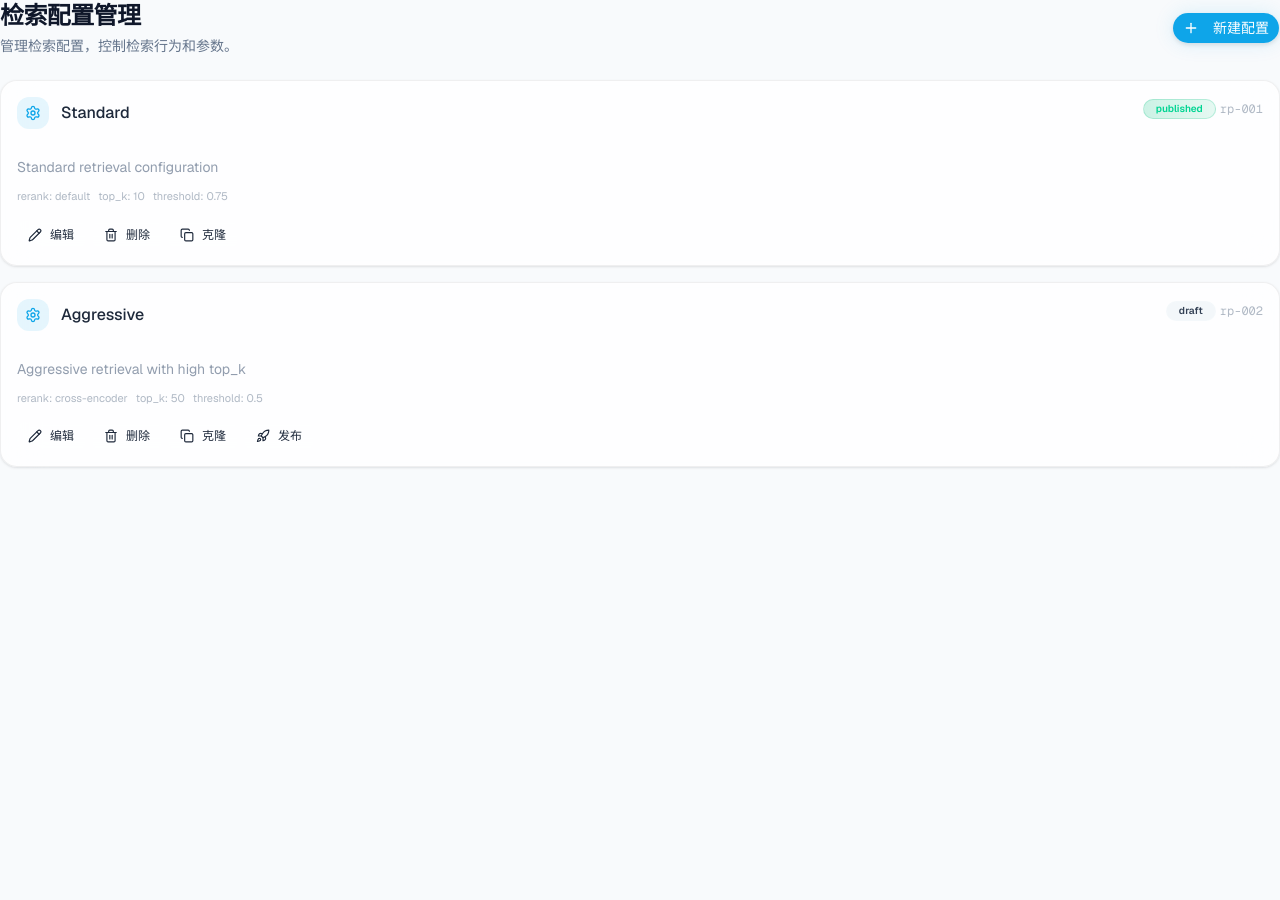
Test: RetrievalProfilesPage › Delete Profile › shows confirm dialog and deletes on confirmation
Expected: the text "Standard" is shown, [61,101,130,125]
Click the button "删除" below "default": click(127, 235) [93,221,161,249]
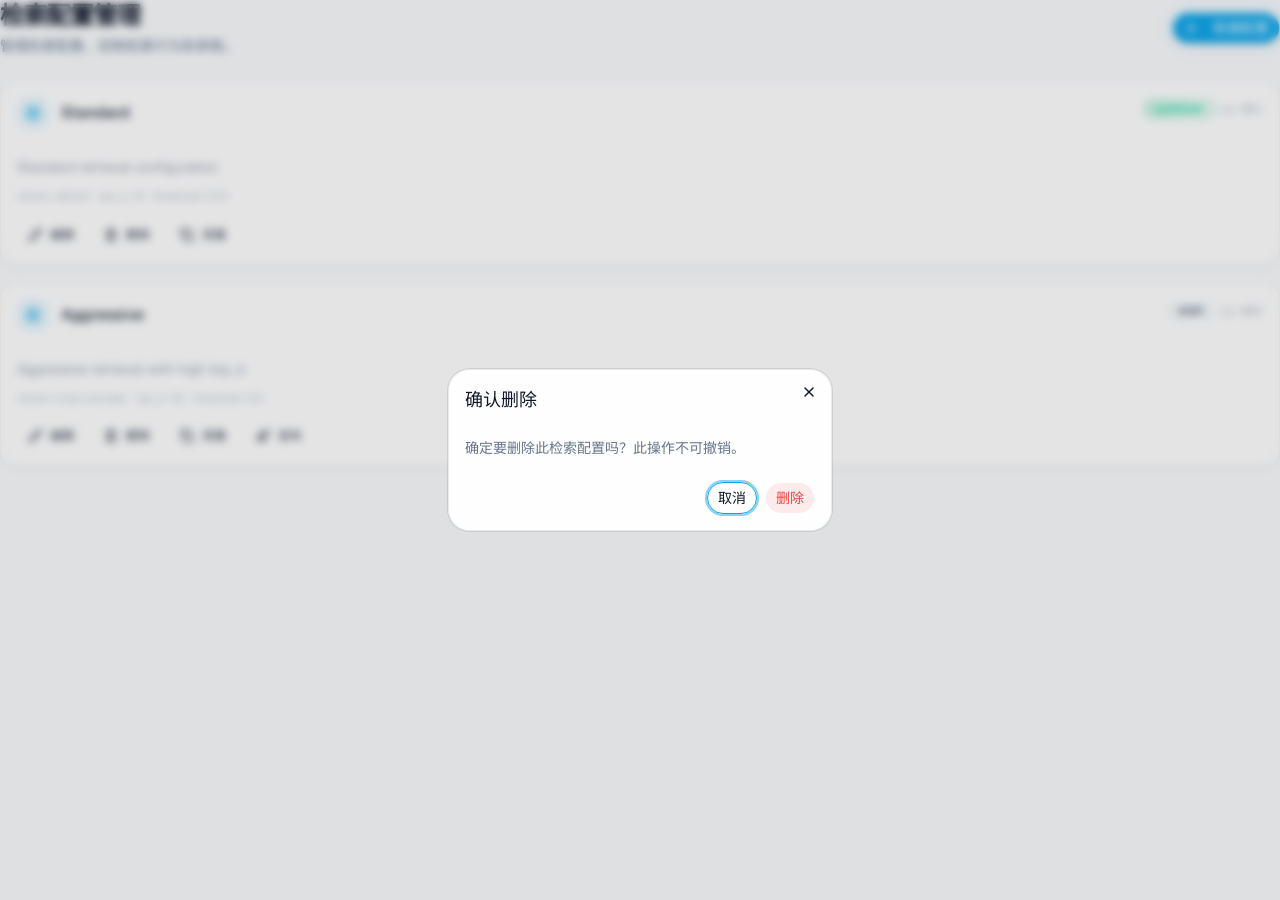
Expected: the dialog with test id "delete-confirm-dialog" is shown, [448,369,832,531]
Click the button "删除": click(790, 498) [765,482,815,514]
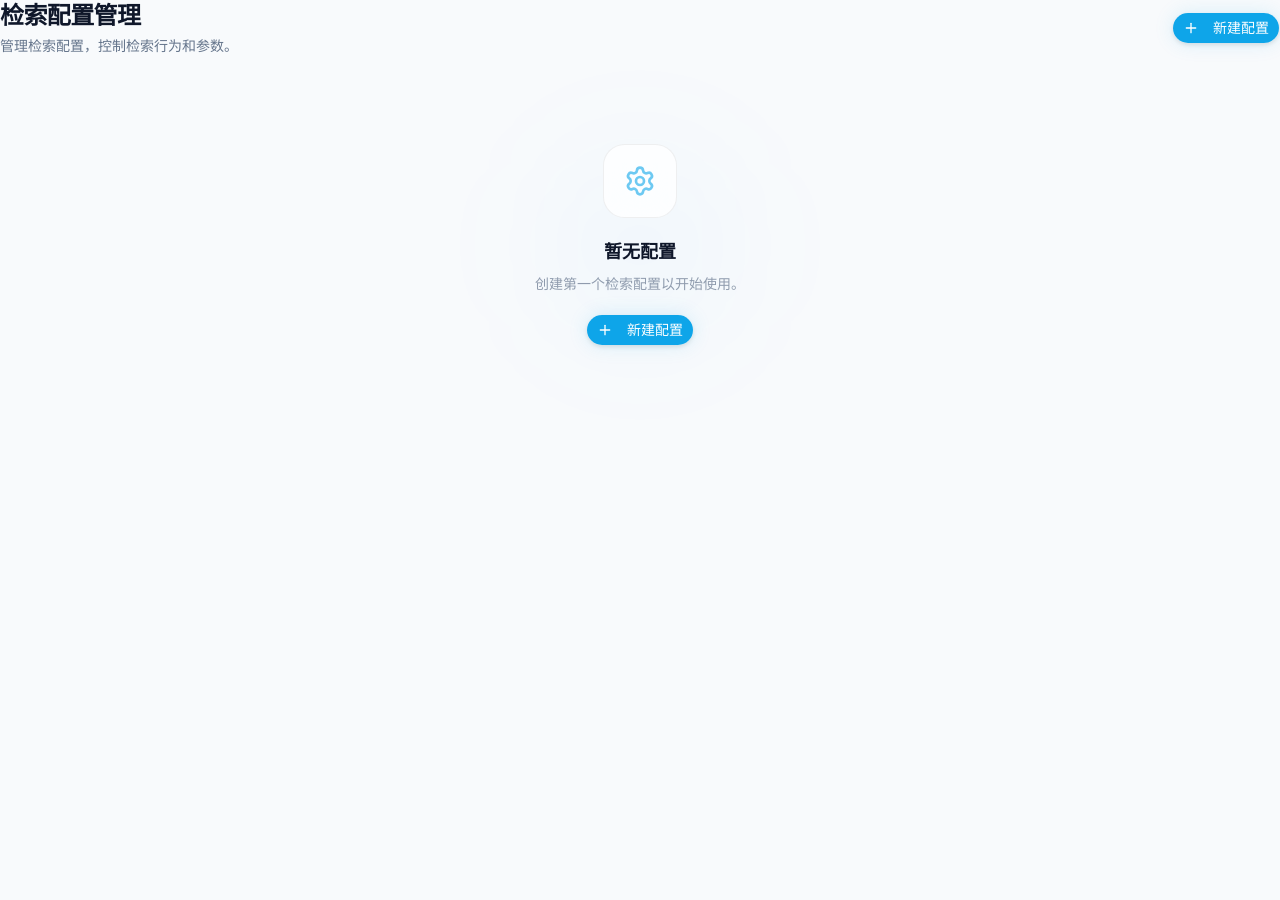
Expected: the dialog with test id "delete-confirm-dialog" is gone
